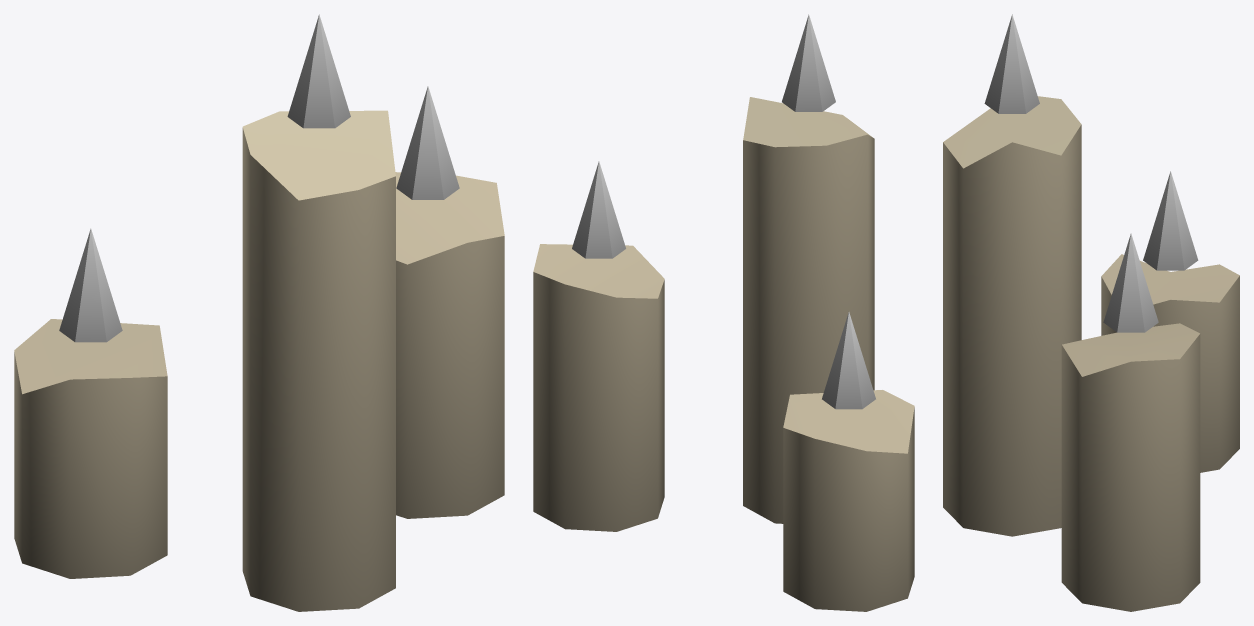
File: ph_prop_candle_cluster.glb
3 views of the same model, side by side, from view 1: azimuth 30°, elevation 25°; view 2: azimuth 150°, elevation 25°; view 3: azimuth 270°, elevation 25° (orthographic). The views are drawn at different scales.
Parts seen in each view (by area): view 1: ph_prop_candle_cluster; view 2: ph_prop_candle_cluster; view 3: ph_prop_candle_cluster.
Boxes of the visible parts, left/top/right/bottom form: ph_prop_candle_cluster: left=14, top=14, right=504, bottom=611; ph_prop_candle_cluster: left=533, top=14, right=914, bottom=611; ph_prop_candle_cluster: left=943, top=14, right=1239, bottom=611.
Size of the model in its own units: 0.23 by 0.275 by 0.15.
